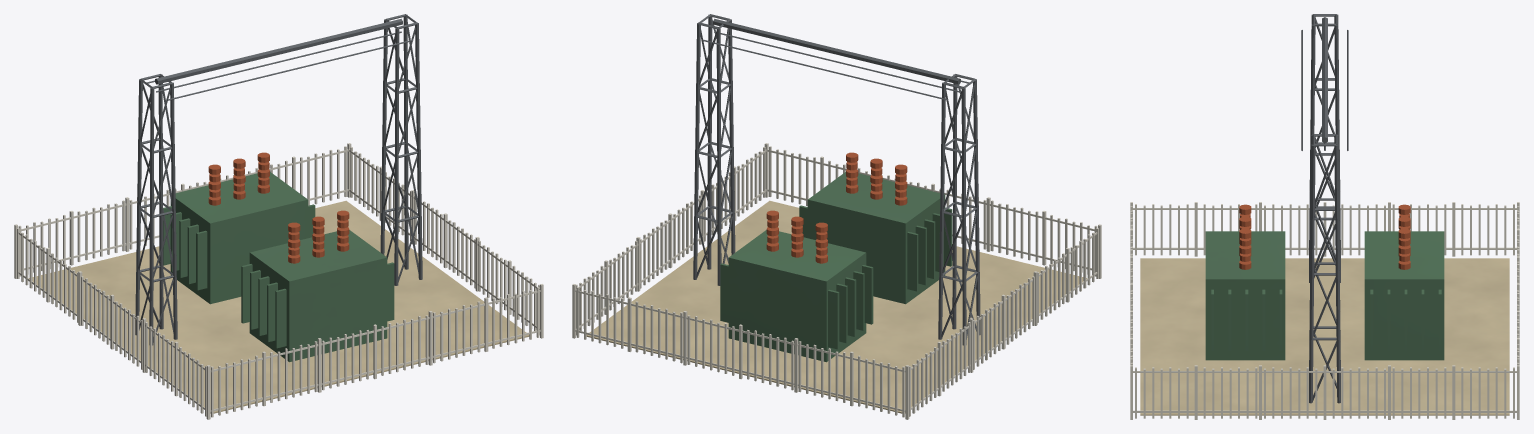
The model's file is pv_transformator.glb.
3 views of the same model, side by side, from view 1: azimuth 30°, elevation 25°; view 2: azimuth 150°, elevation 25°; view 3: azimuth 270°, elevation 25° (orthographic).
Visible parts, largest first — view 1: dum; view 2: dum; view 3: dum.
Part boxes in pixels (x1,y1,x2,y2): dum: (14, 14, 543, 419); dum: (572, 14, 1101, 419); dum: (1130, 14, 1519, 419).
Bounding box in the file's own units: 13.67 × 10.14 × 13.67.
Materials: 1 (1 with a texture image).
